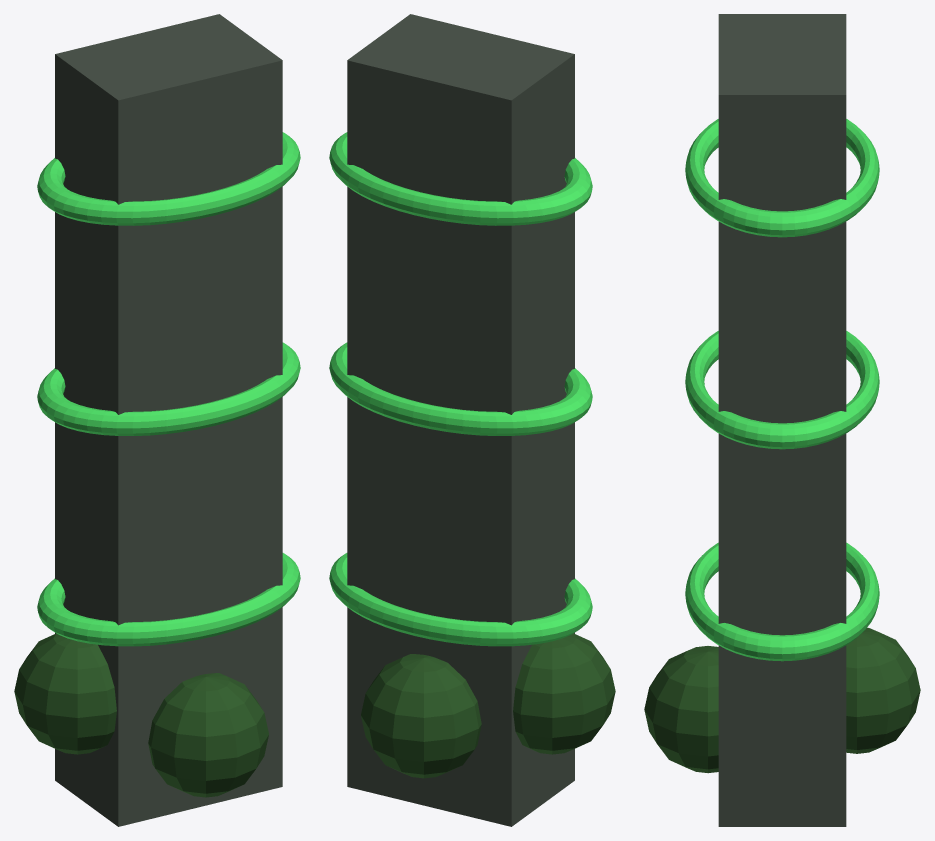
File: druidic_monolith.obj
3 views of the same model, side by side, from view 1: azimuth 30°, elevation 25°; view 2: azimuth 150°, elevation 25°; view 3: azimuth 270°, elevation 25° (orthographic).
Parts seen in each view (by area): view 1: Cube, Sphere.001, Sphere.002, Torus, Torus.002, Torus.001; view 2: Cube, Sphere, Sphere.002, Torus, Torus.002, Torus.001; view 3: Cube, Sphere.001, Torus.001, Torus.002, Torus, Sphere.
Boxes of the visible parts, <box> form: Cube: <box>55,14,282,826</box>; Sphere.001: <box>148,673,268,797</box>; Sphere.002: <box>14,633,116,754</box>; Torus: <box>37,553,300,646</box>; Torus.002: <box>37,132,300,225</box>; Torus.001: <box>37,342,300,435</box>; Cube: <box>347,14,574,826</box>; Sphere: <box>361,654,481,778</box>; Sphere.002: <box>513,633,615,754</box>; Torus: <box>329,553,592,646</box>; Torus.002: <box>329,132,592,225</box>; Torus.001: <box>329,342,592,435</box>; Cube: <box>718,14,846,826</box>; Sphere.001: <box>644,646,718,773</box>; Torus.001: <box>685,331,879,449</box>; Torus.002: <box>685,119,879,237</box>; Torus: <box>685,542,879,661</box>; Sphere: <box>846,627,920,753</box>.
Size of the model in its own units: 2.94 by 7.6 by 2.6.
